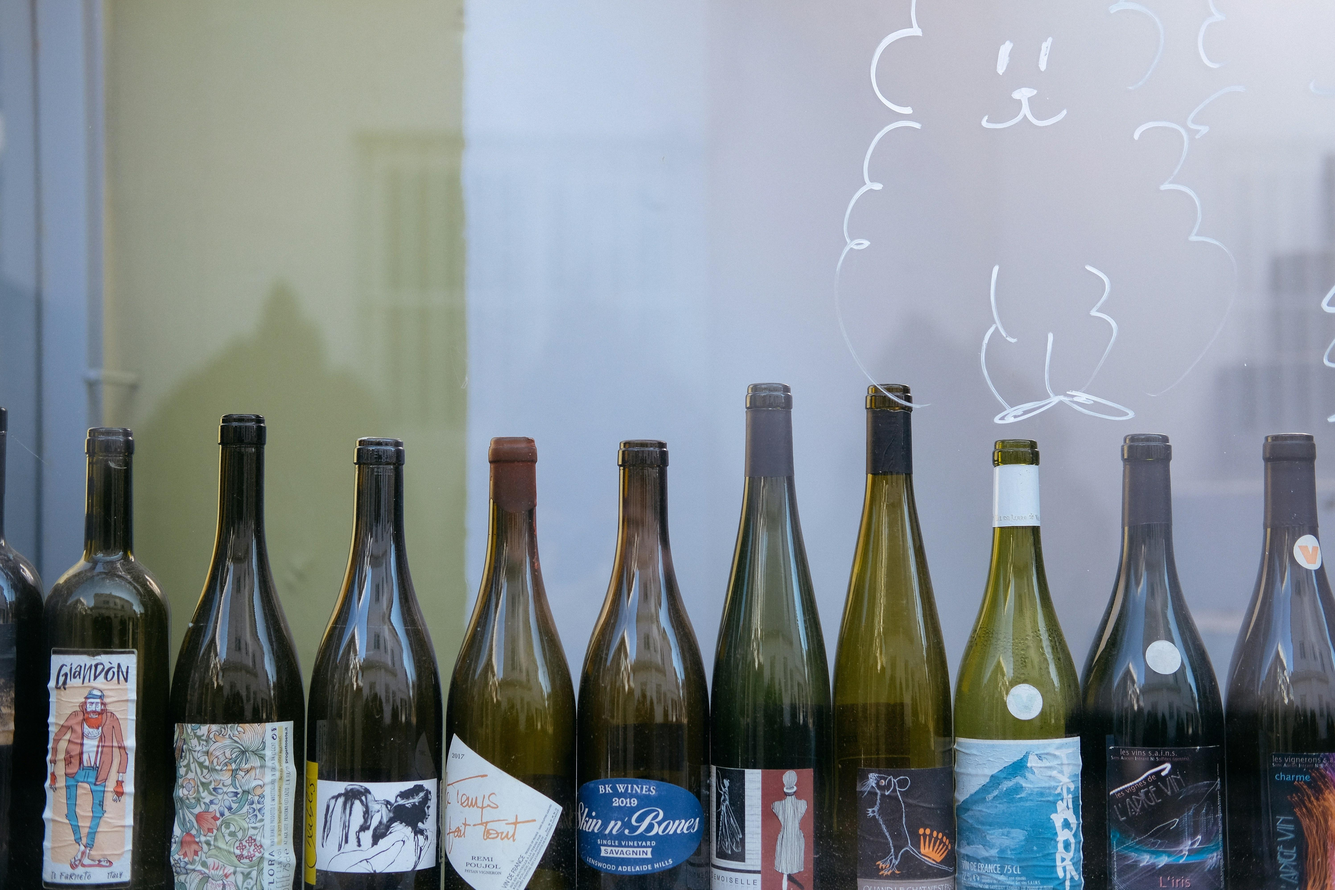Bottle-Detection: (4, 383, 176, 890), (700, 328, 836, 890), (827, 341, 961, 887), (433, 412, 586, 890), (292, 417, 446, 890), (1084, 410, 1235, 887), (959, 399, 1095, 885), (580, 430, 722, 890), (185, 401, 305, 887), (1224, 412, 1335, 890)
